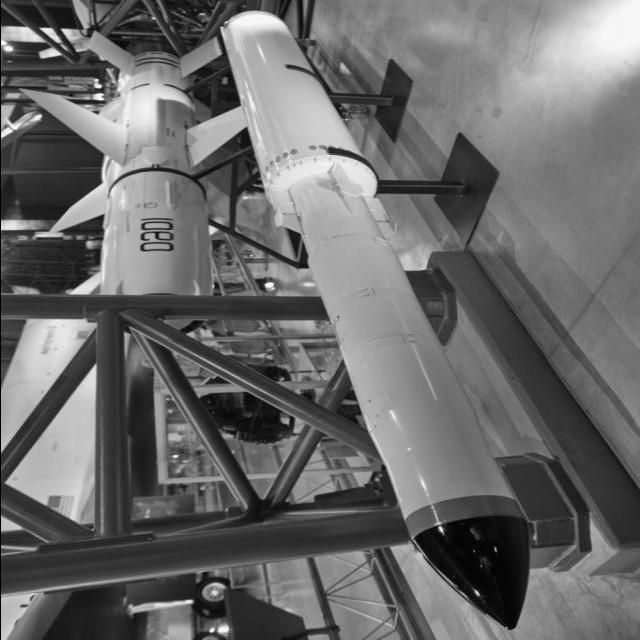missile: (192, 1, 600, 640)
